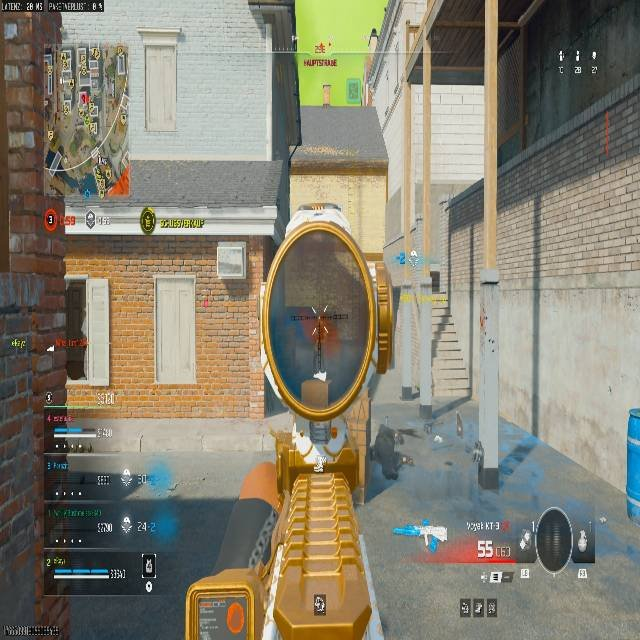player: (311, 325, 325, 353)
